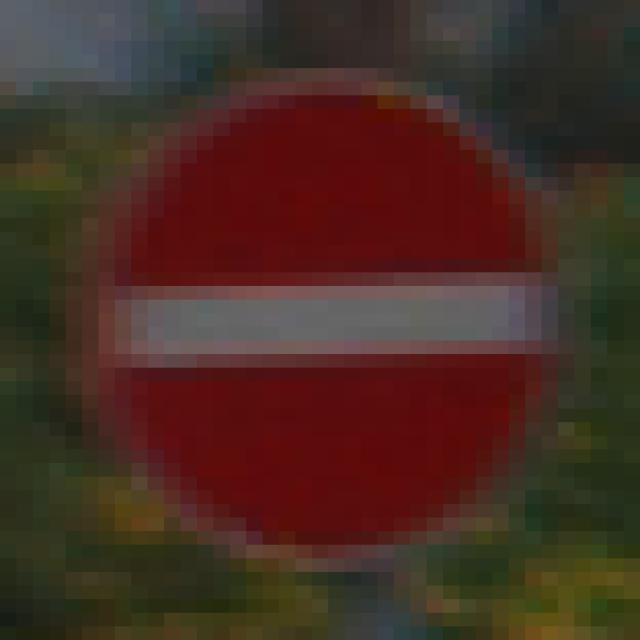No Entry: (83, 69, 559, 573)
